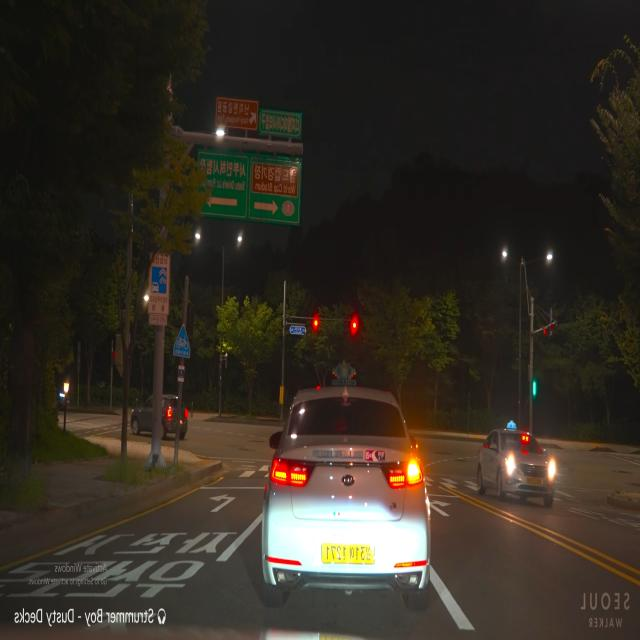headlights: (500, 450, 560, 485)
